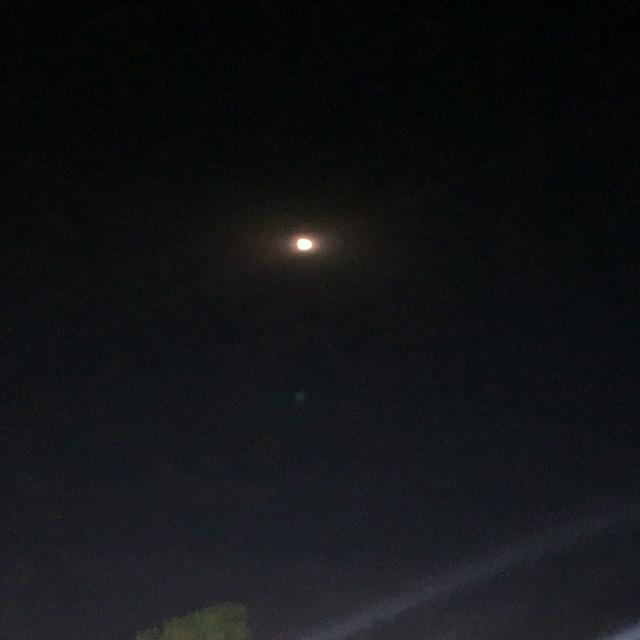moon: (287, 237, 331, 255)
